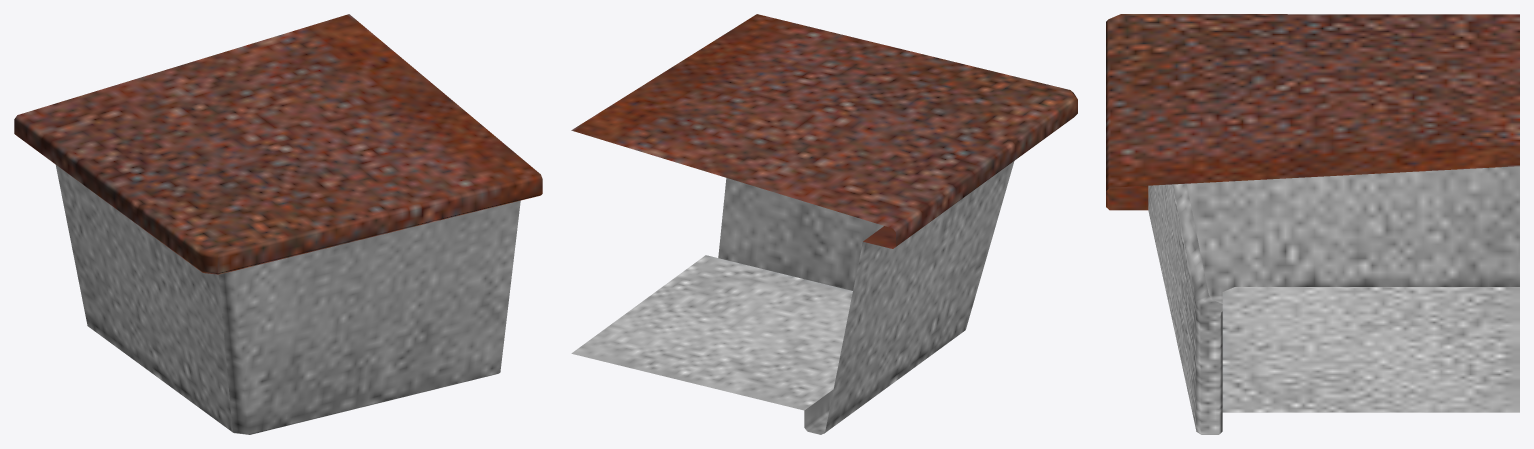
The model's file is Raincover_01_Corner.FBX.
3 views of the same model, side by side, from view 1: azimuth 30°, elevation 25°; view 2: azimuth 150°, elevation 25°; view 3: azimuth 270°, elevation 25° (orthographic). The views are drawn at different scales.
Parts seen in each view (by area): view 1: Raincover_01_Corner; view 2: Raincover_01_Corner; view 3: Raincover_01_Corner.
Boxes of the visible parts, <box> form: Raincover_01_Corner: <box>14,14,542,434</box>; Raincover_01_Corner: <box>571,14,1077,434</box>; Raincover_01_Corner: <box>1106,14,1519,434</box>.
Bounding box in the file's own units: 16.71 × 11.97 × 16.71.
